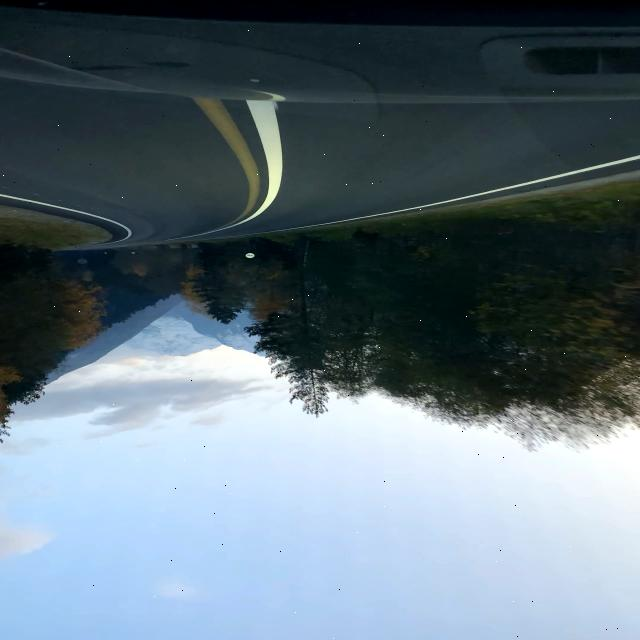lane: (291, 155, 640, 229), (193, 98, 260, 221), (231, 100, 282, 226), (0, 194, 131, 240)
road: (2, 0, 638, 245)
